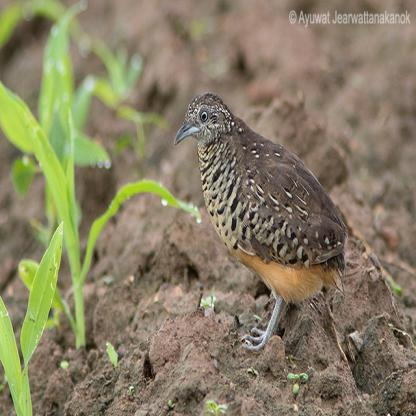Burung: (173, 91, 345, 350)
